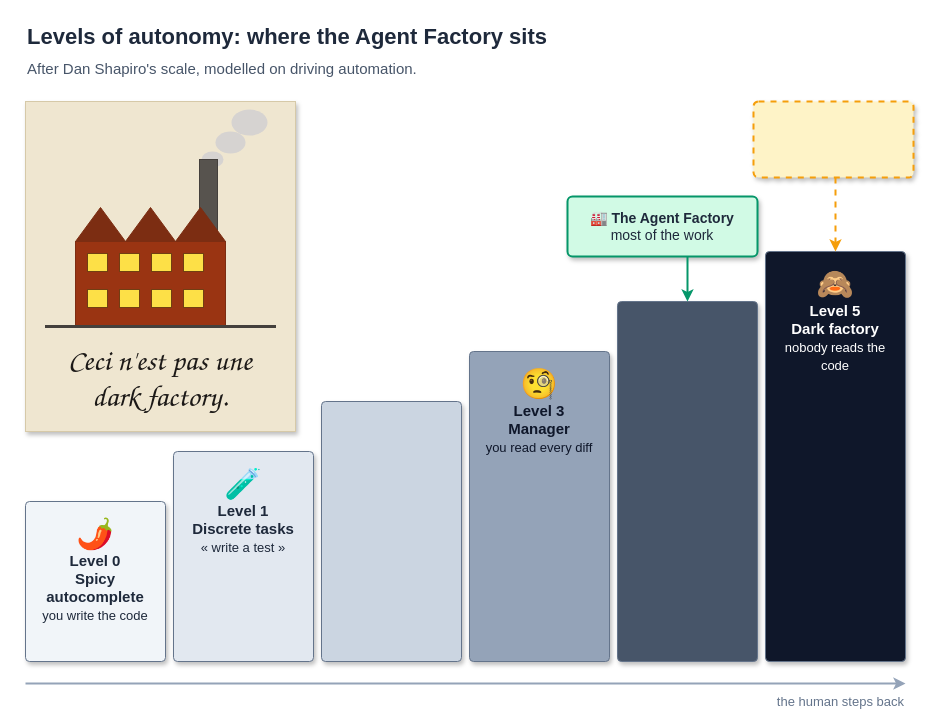
Some shapes in this 942 by 727 pixel diagram are drawn without their labels. Here are the shapes that lost their labels. From the top down, the centre of each, then its label:
At (x=834, y=140): "one lane only link fixes · ≤ 1 a day with a breaker".
At (x=688, y=482): "📝 Level 4 Spec writer you write specs, check the tests".
At (x=392, y=532): "🤝 Level 2 Pair programming a junior buddy".
